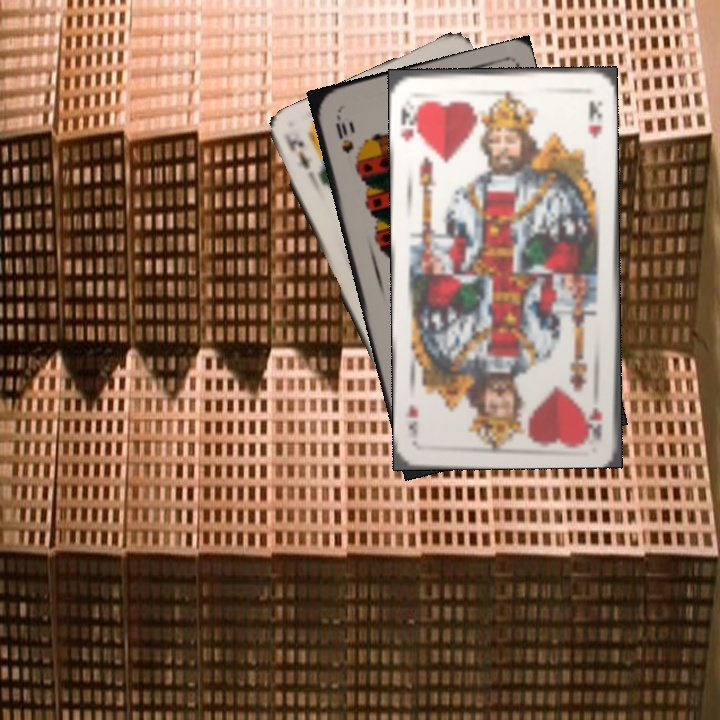EK: (281, 133, 314, 172)
HK: (396, 100, 423, 144), (586, 403, 605, 441)
S10: (331, 110, 356, 156)
